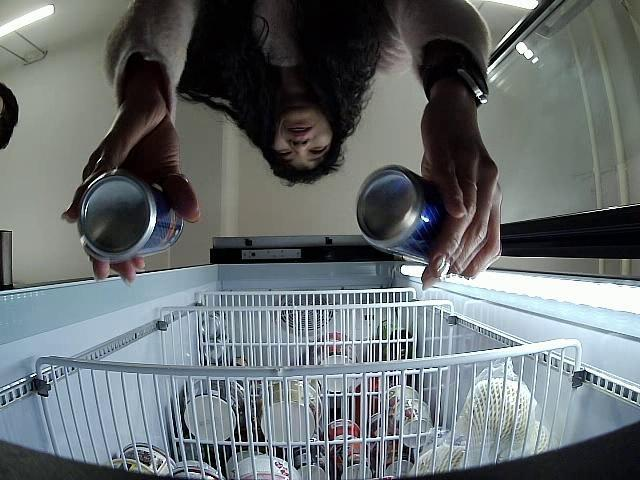16_hot6: (78, 170, 184, 263), (356, 166, 449, 262)
